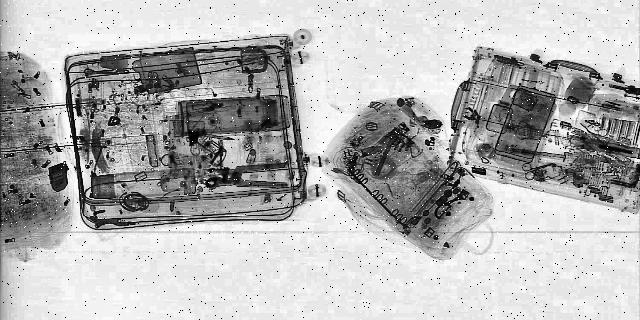Scissors: (511, 158, 559, 182)
